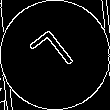L_SE: (27, 26, 83, 84)
